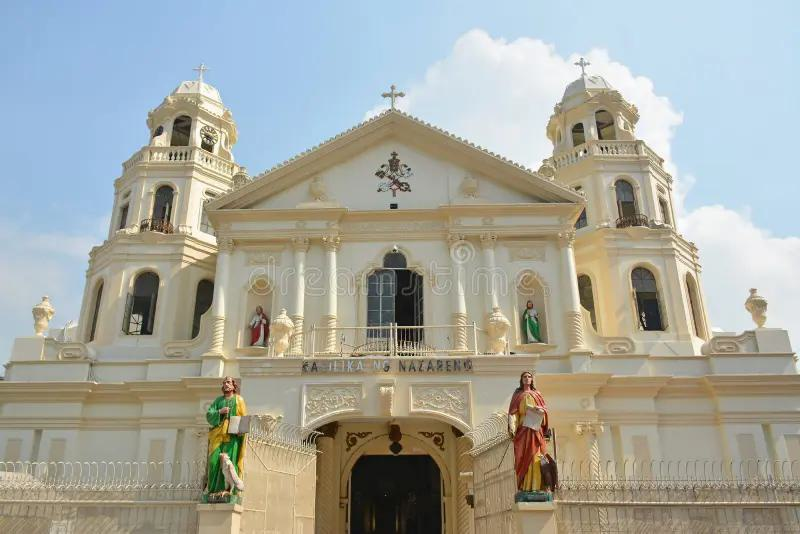quiapo_church_quiapo_manila: (29, 47, 740, 534)
